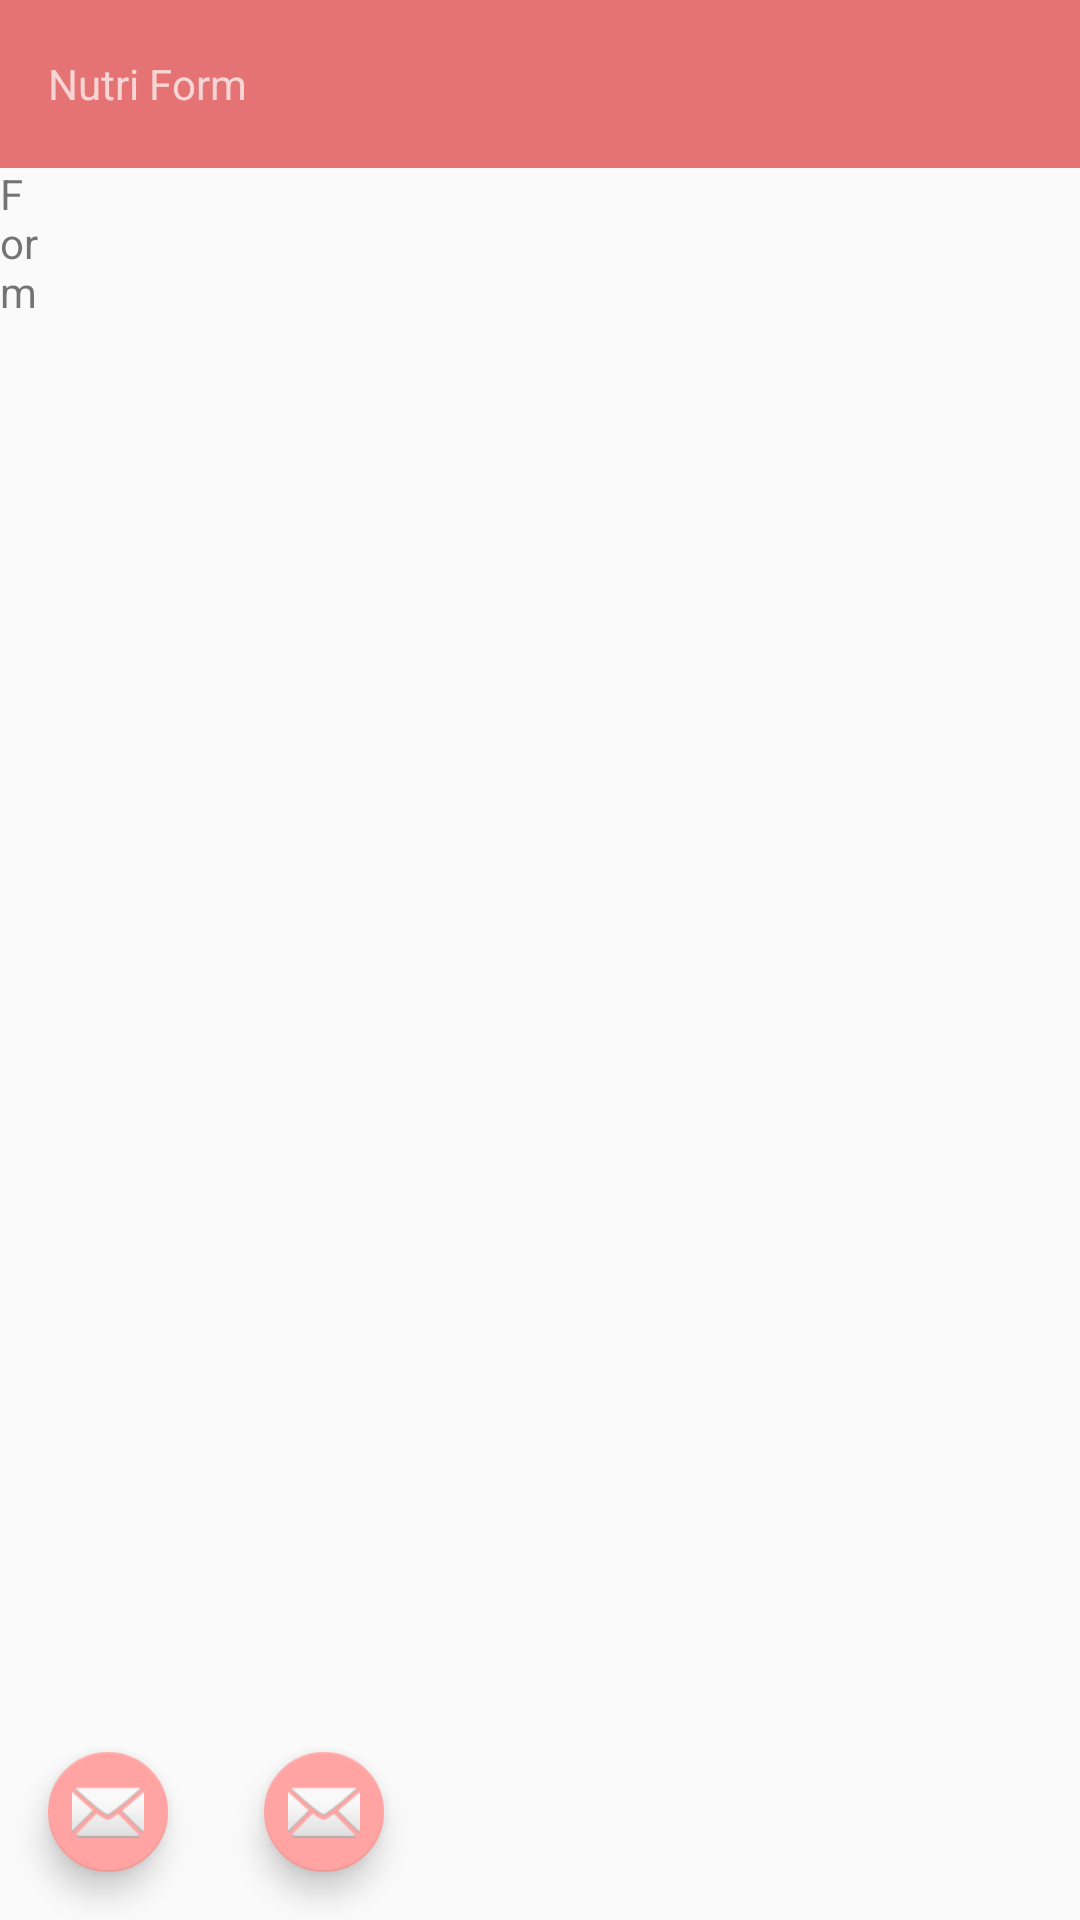

Icon click points for this 1080x1920 phone screenshot, format point (x, y):
email: point (108, 1812), point (324, 1812)
